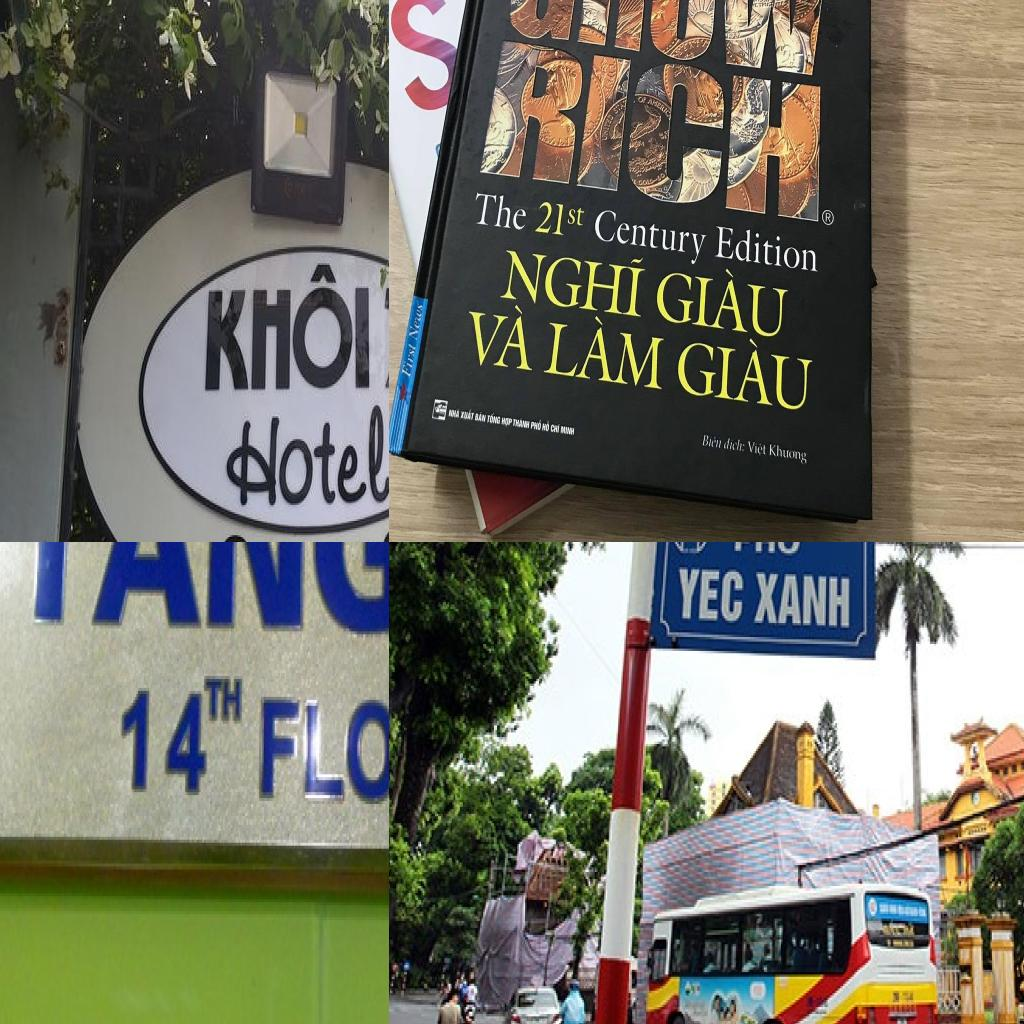text: (477, 38, 825, 223), (0, 542, 389, 637), (503, 0, 831, 79), (202, 260, 371, 393), (222, 396, 389, 517), (675, 328, 815, 417), (498, 241, 648, 323), (653, 261, 793, 340), (539, 308, 667, 394), (116, 685, 209, 795), (592, 207, 712, 266), (748, 567, 856, 632), (713, 224, 819, 278), (466, 301, 536, 378), (675, 565, 747, 628), (470, 187, 530, 237), (532, 196, 587, 243), (202, 673, 244, 727), (730, 542, 806, 560), (380, 274, 389, 395), (407, 296, 427, 344), (768, 442, 808, 466), (400, 339, 418, 379), (702, 432, 724, 450), (724, 436, 746, 454), (748, 439, 768, 458), (512, 416, 530, 430), (486, 412, 502, 426), (821, 209, 833, 226), (460, 409, 476, 421), (560, 424, 576, 436), (448, 407, 460, 420), (501, 415, 513, 428), (530, 418, 542, 431), (475, 411, 487, 423), (549, 422, 561, 434), (542, 419, 550, 433)
